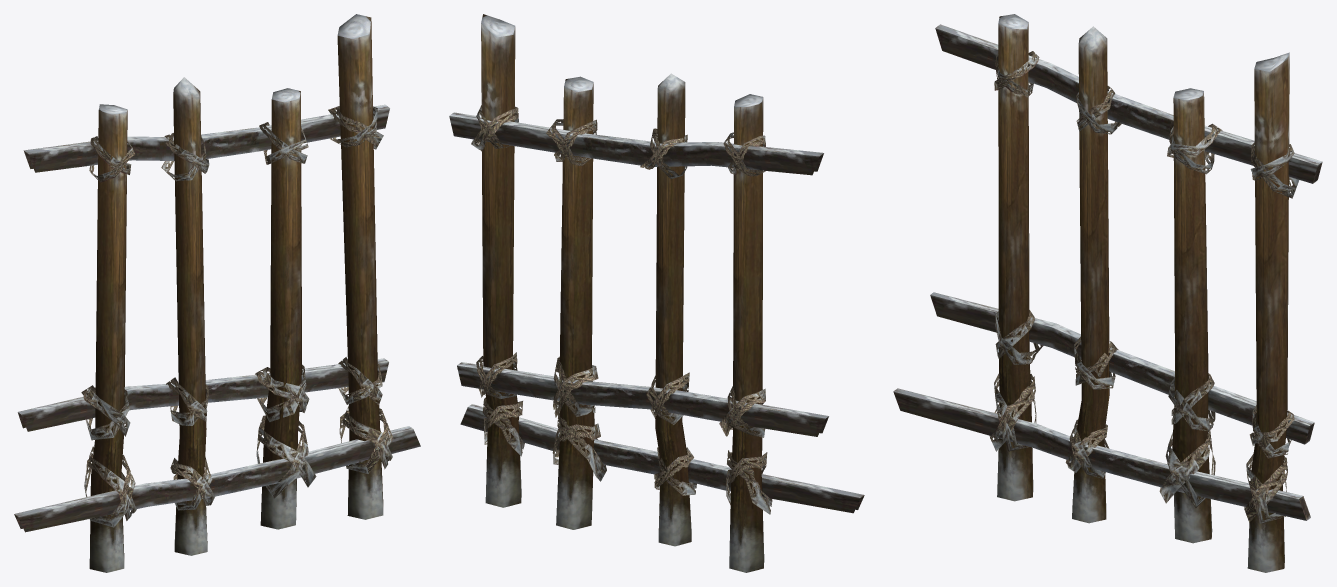
File: Item_13.FBX
3 renders of one model, left to right at view 1: azimuth 30°, elevation 25°; view 2: azimuth 150°, elevation 25°; view 3: azimuth 330°, elevation 25°, orthographic. The views are drawn at different scales.
Visible parts, largest first — view 1: Item_13; view 2: Item_13; view 3: Item_13.
Part boxes in pixels (x1=…): Item_13: x1=14, y1=14, x2=420, y2=572; Item_13: x1=449, y1=14, x2=864, y2=572; Item_13: x1=893, y1=14, x2=1322, y2=572.
Bounding box in the file's own units: 246 × 36.72 × 285.
